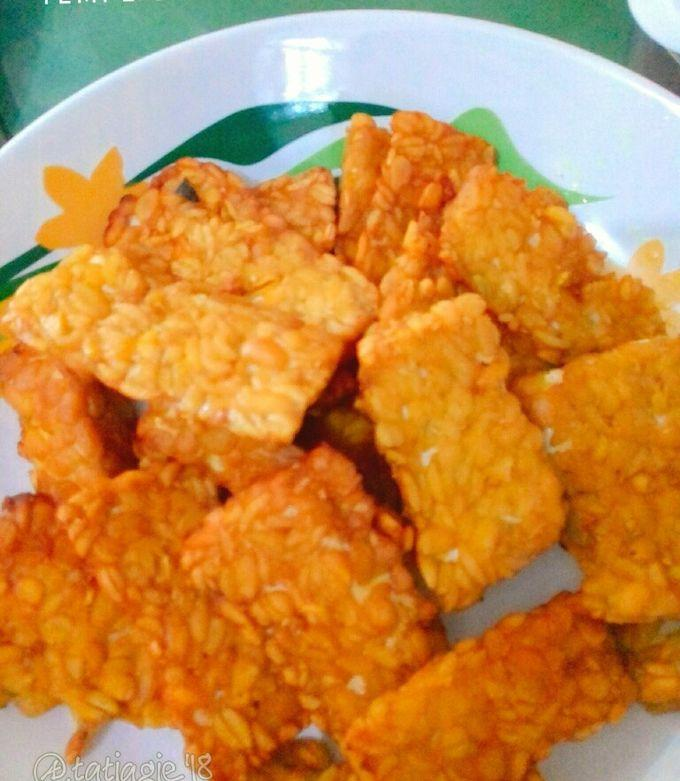kacang_legume: (108, 217, 588, 537)
